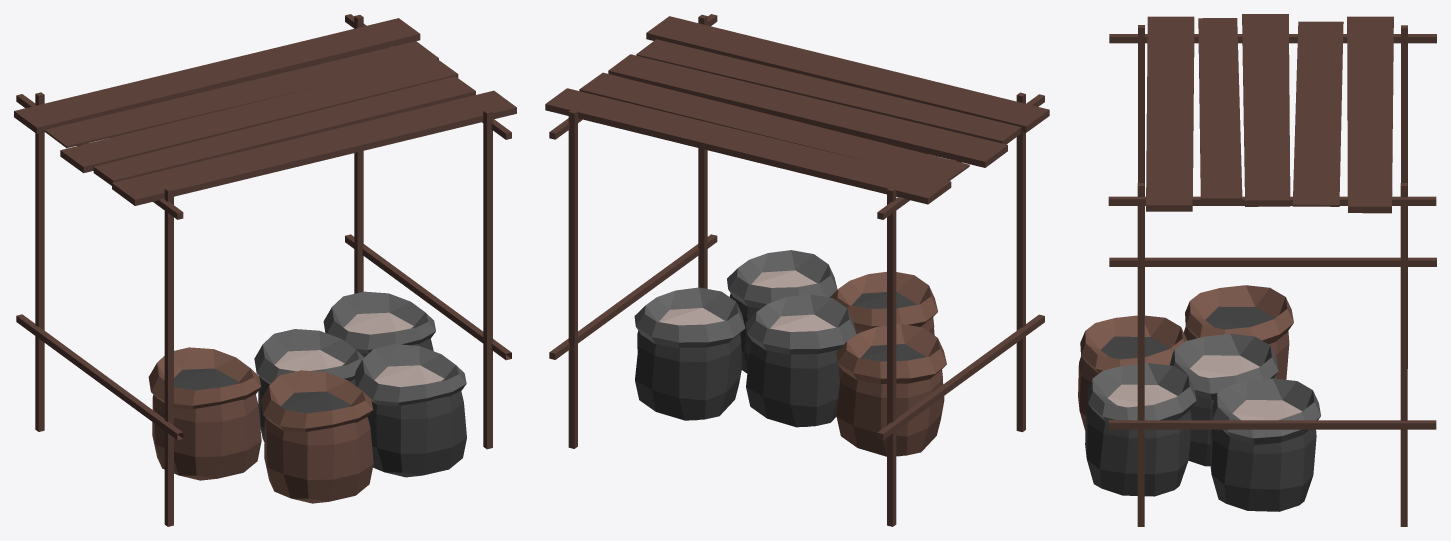
Rendered from props_046.glb.
3 renders of one model, left to right at view 1: azimuth 30°, elevation 25°; view 2: azimuth 150°, elevation 25°; view 3: azimuth 270°, elevation 25°, orthographic.
Visible parts, largest first — view 1: props_046; view 2: props_046; view 3: props_046.
Boxes of the visible parts, x1,y1,x2,y2 form: props_046: [14, 14, 516, 526]; props_046: [545, 14, 1049, 526]; props_046: [1078, 14, 1436, 526].
Size of the model in its own units: 5.29 by 4.4 by 4.16.
Materials: 1 (1 with a texture image).
